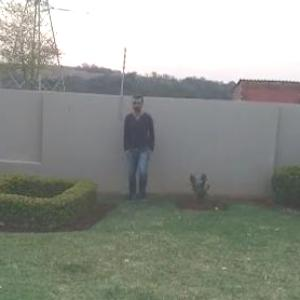follow: (122, 90, 156, 205)
